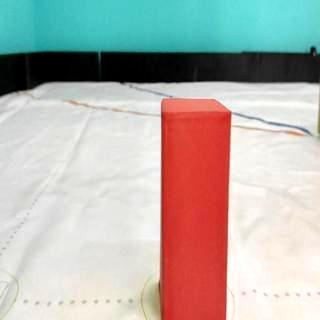redbox: (162, 99, 226, 320)
